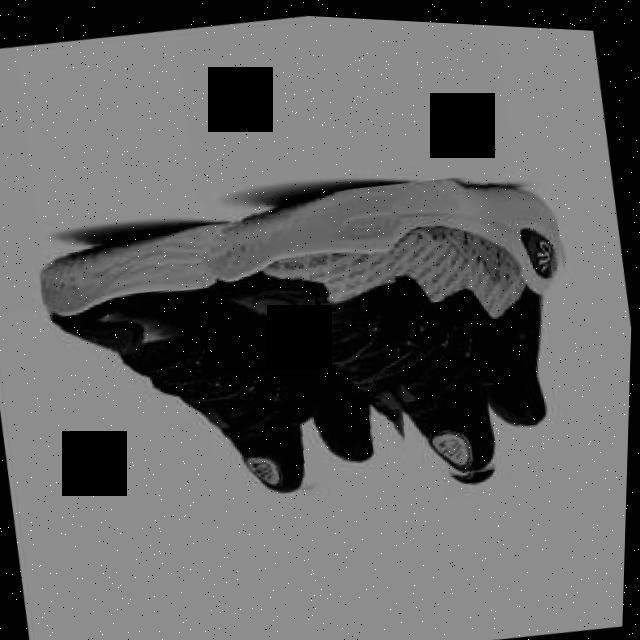shoe: (203, 148, 599, 520), (30, 185, 437, 532)
